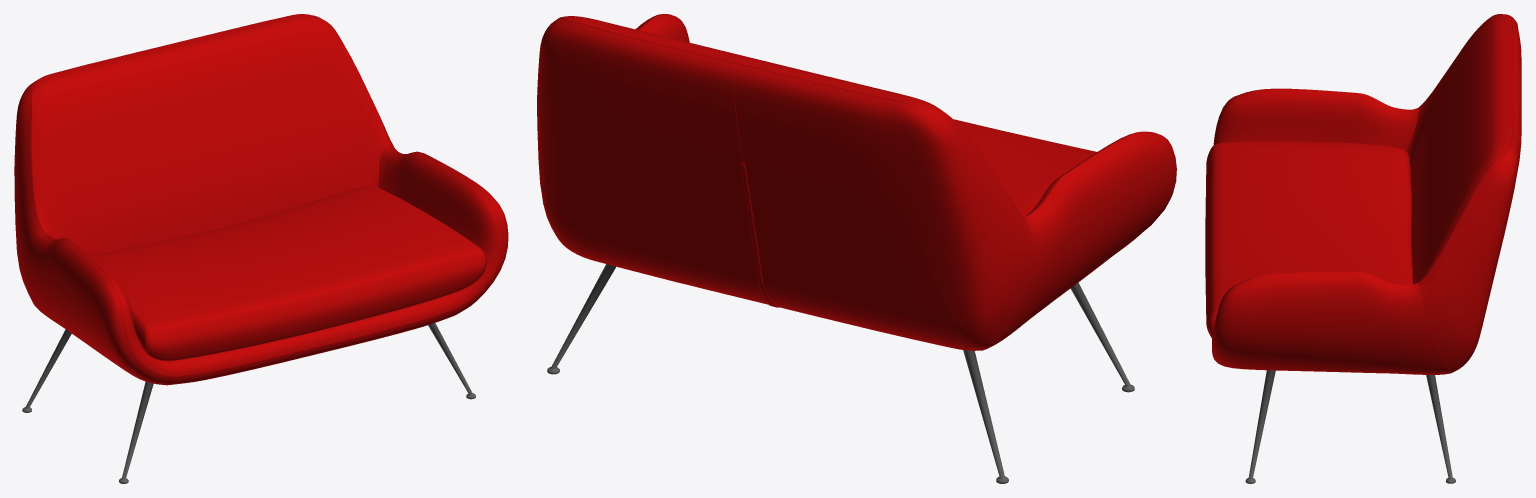
The model's file is Seat2_.fbx.
3 views of the same model, side by side, from view 1: azimuth 30°, elevation 25°; view 2: azimuth 150°, elevation 25°; view 3: azimuth 270°, elevation 25° (orthographic). The views are drawn at different scales.
Visible parts, largest first — view 1: Main_koltuk2; view 2: Main_koltuk2; view 3: Main_koltuk2.
Part boxes in pixels (<box>): Main_koltuk2: <box>14,14,508,483</box>; Main_koltuk2: <box>537,14,1176,483</box>; Main_koltuk2: <box>1205,14,1521,483</box>.
Bounding box in the file's own units: 101 × 73.18 × 67.1.
